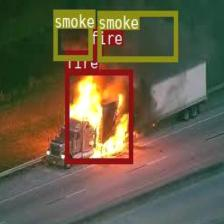fire: (64, 69, 132, 163), (89, 44, 102, 61)
smoke: (97, 11, 177, 62), (53, 9, 92, 59)
